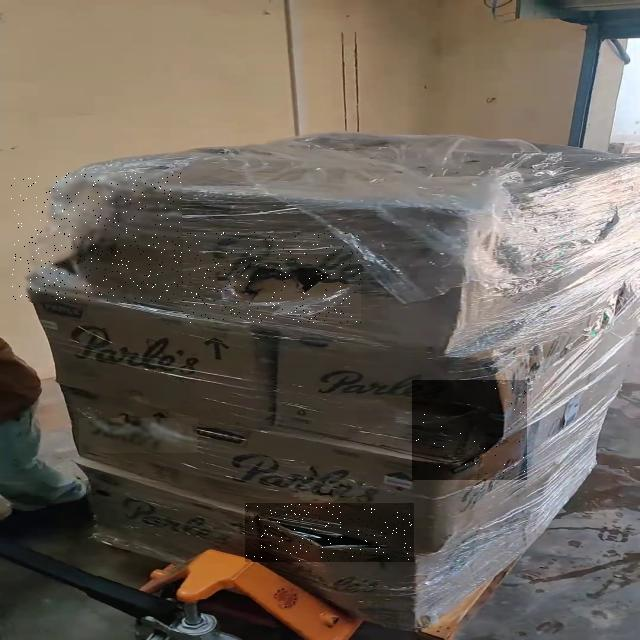leakage: (181, 232, 361, 323)
squeeze: (12, 174, 182, 302), (412, 380, 527, 480)
tear: (246, 503, 412, 562), (79, 419, 196, 452)
